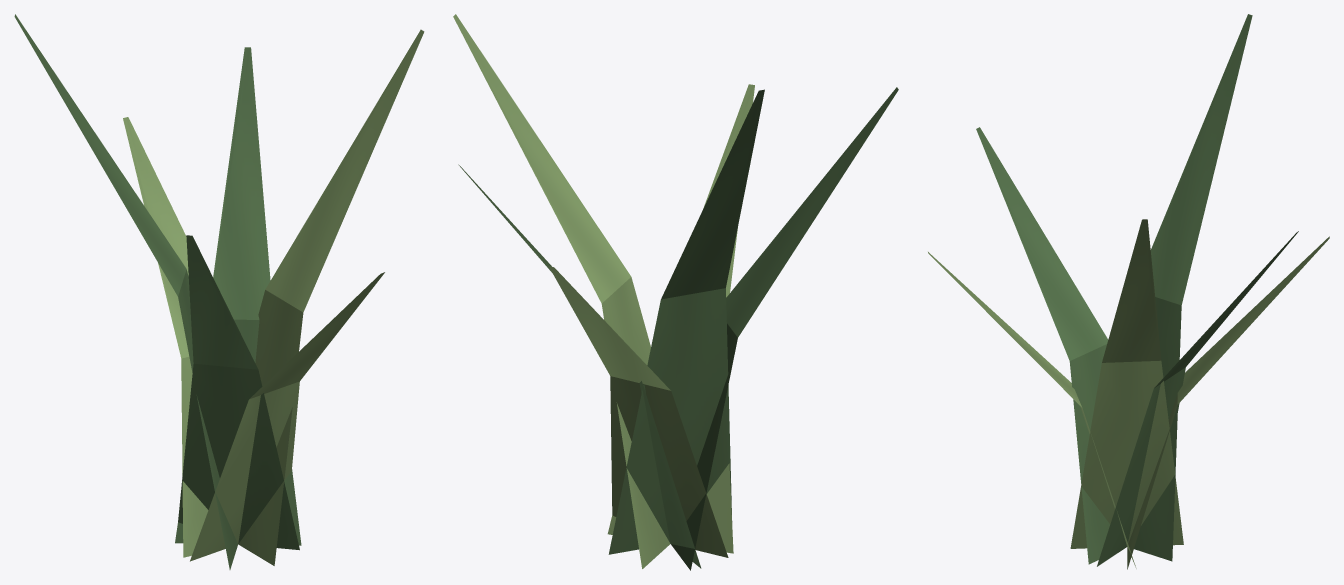
File: coast_grass.glb
3 renders of one model, left to right at view 1: azimuth 30°, elevation 25°; view 2: azimuth 150°, elevation 25°; view 3: azimuth 270°, elevation 25°, orthographic. The views are drawn at different scales.
Visible parts, largest first — view 1: coast_grass; view 2: coast_grass; view 3: coast_grass.
Part boxes in pixels (x1,y1,x2,y2): coast_grass: (14,14,424,569); coast_grass: (453,14,898,570); coast_grass: (928,14,1329,569).
Bounding box in the file's own units: 0.2879 × 0.405 × 0.3179.
1 material, 1 textured.
